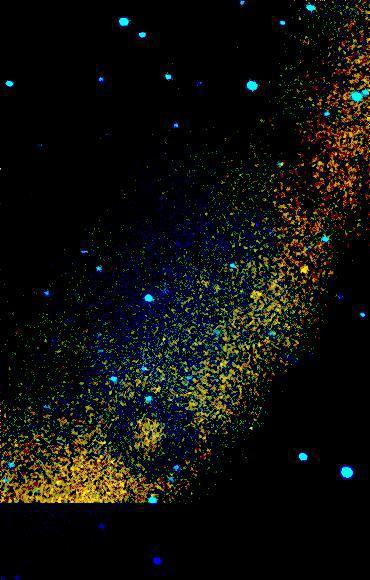star: (290, 254, 320, 284)
